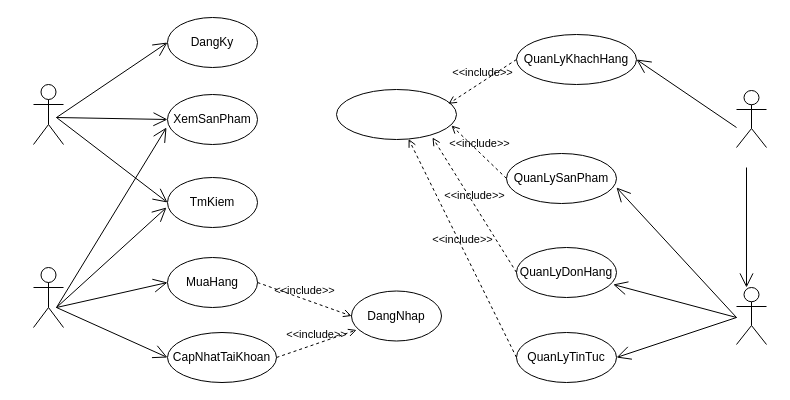
The diagram is 790 pixels wide and 400 high, and some of its shapes have lost their labels. Here are the shapes that lost their labels. From the top down, the centre of each, then its label:
At (48,114): "KhachXem".
At (396,114): "DangNhapQuanTri".
At (751,119): "Admin".
At (48,297): "KhachHang".
At (751,315): "QuanLy".
